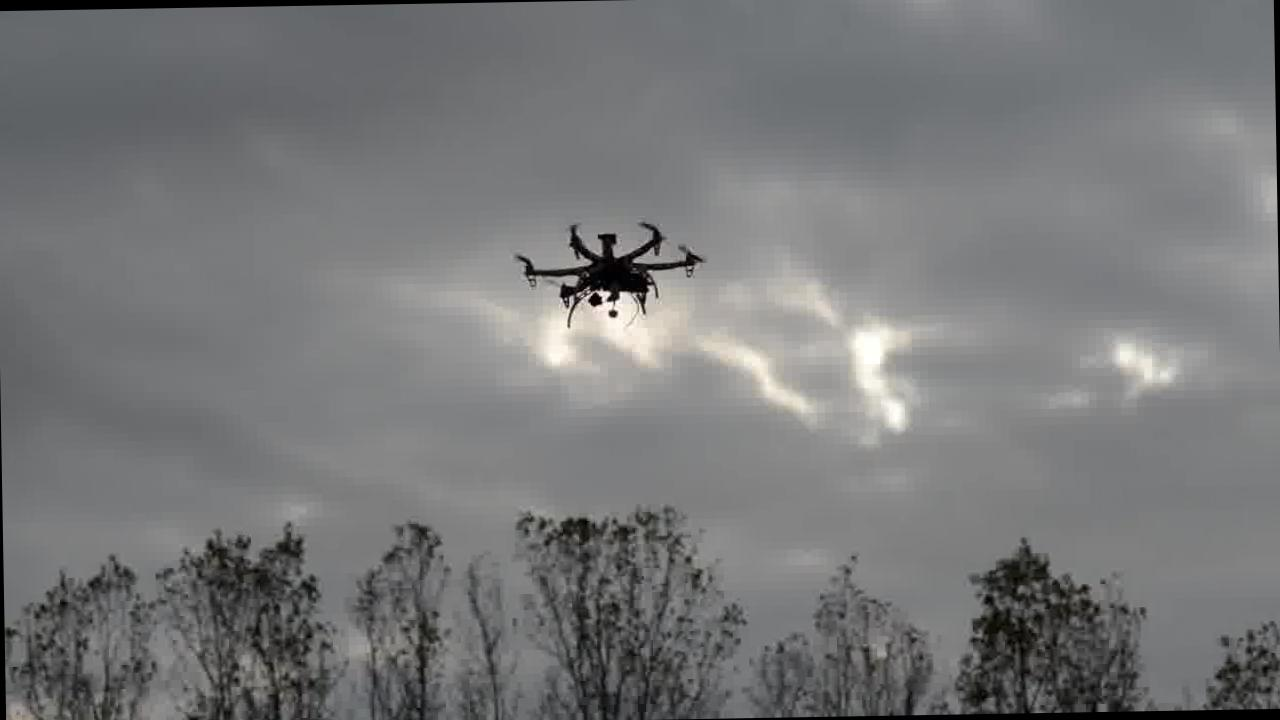drone: (514, 213, 704, 329)
